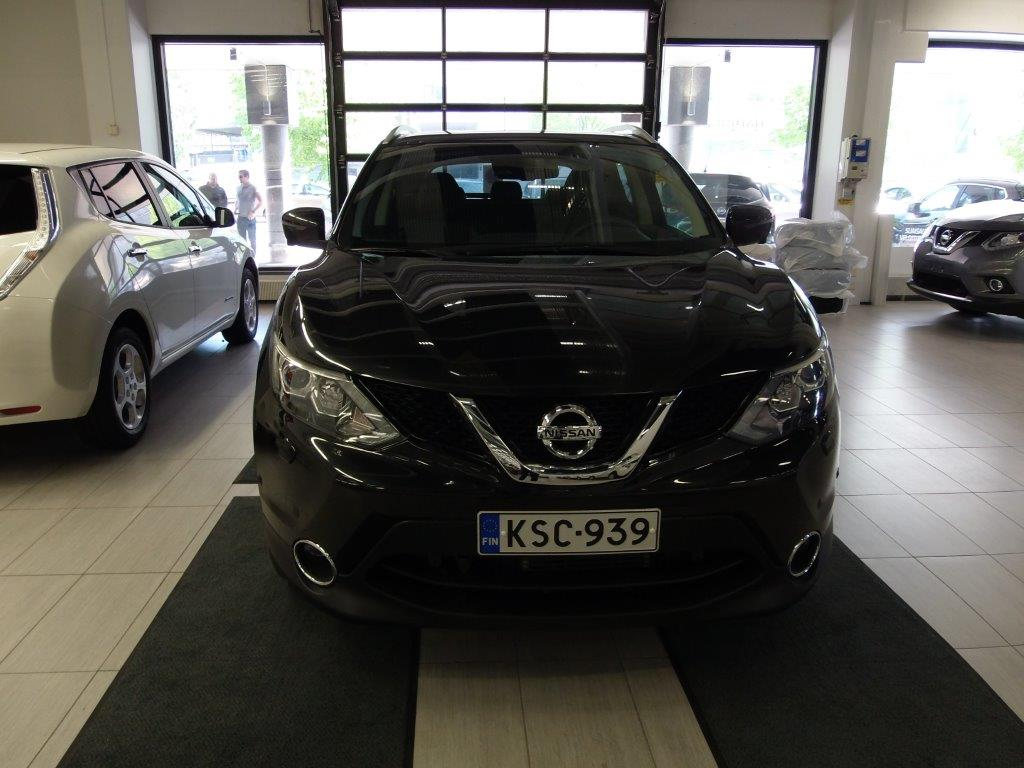license: (473, 507, 658, 561)
